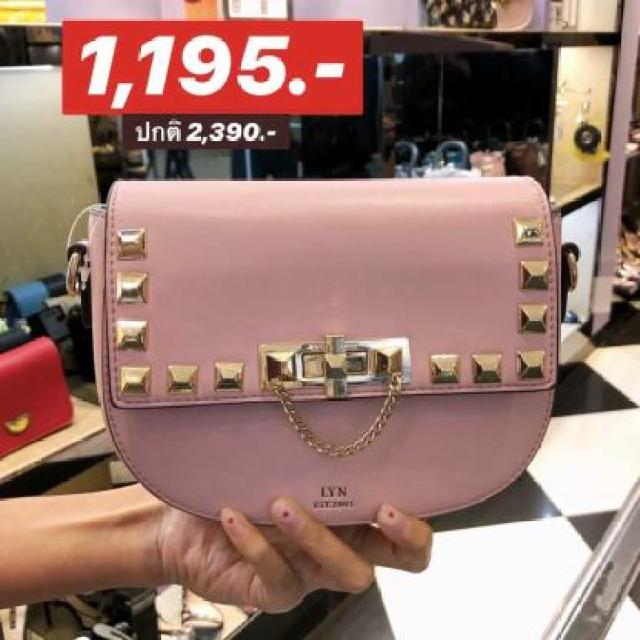Bag: (38, 145, 610, 589)
